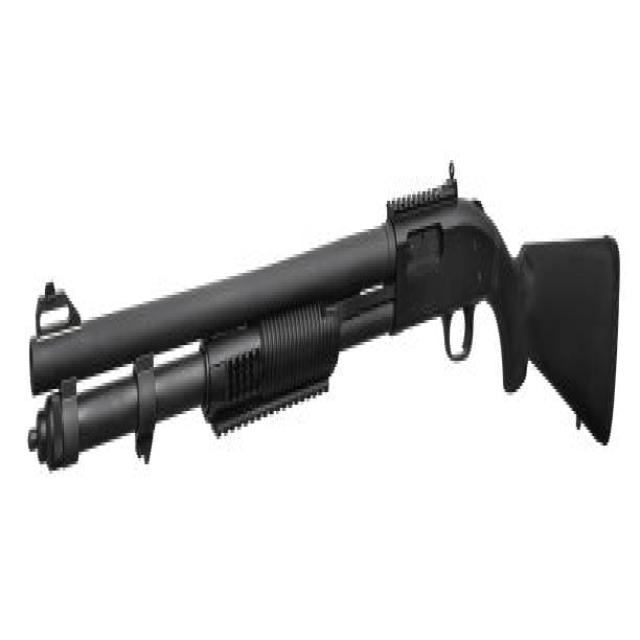rifle: (24, 159, 627, 486)
